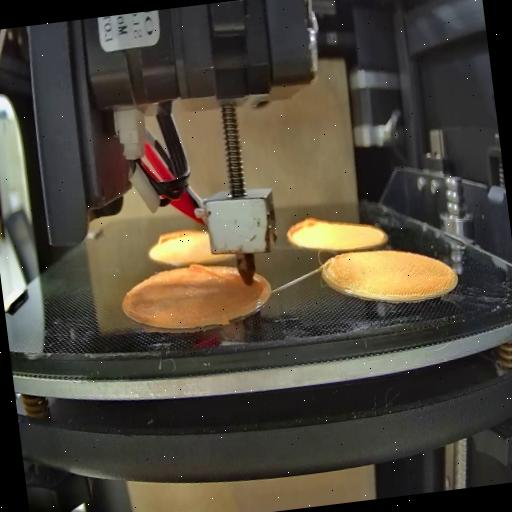over_extrusion: (284, 214, 320, 248), (188, 258, 226, 290), (156, 224, 199, 250)
